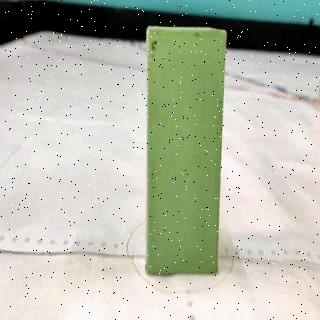greenbox: (146, 27, 220, 273)
